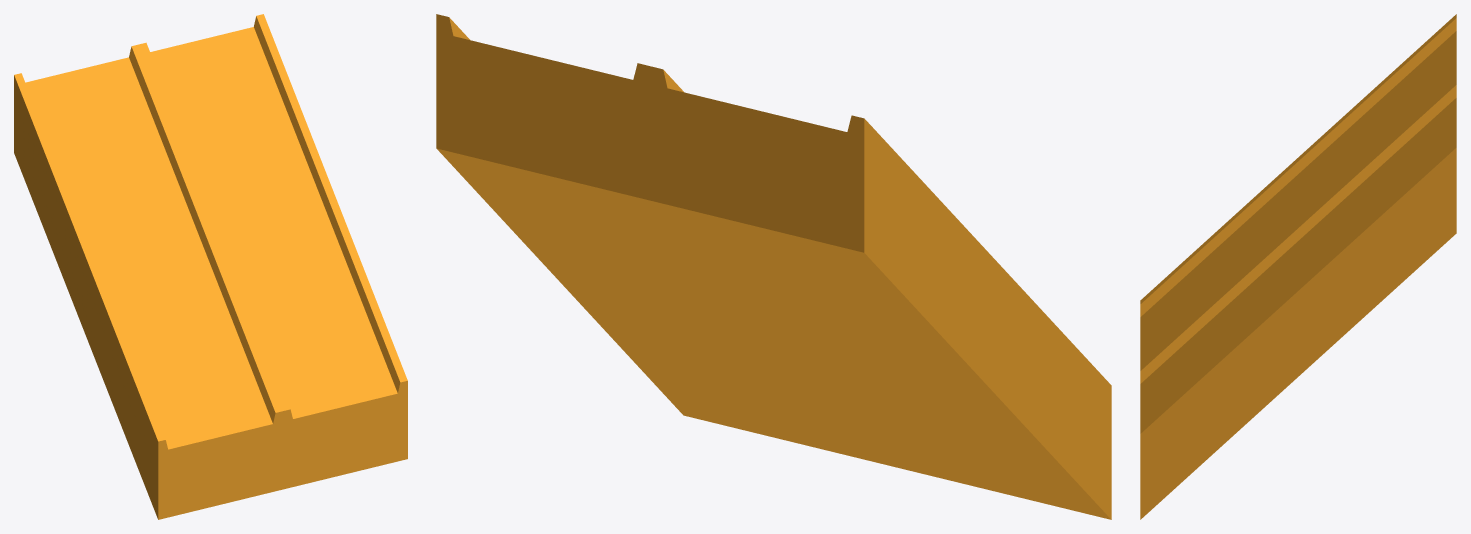
Rendered from SM_Roof_Metal_Regular_1x1m.fbx.
3 views of the same model, side by side, from view 1: azimuth 30°, elevation 25°; view 2: azimuth 150°, elevation 25°; view 3: azimuth 270°, elevation 25° (orthographic). The views are drawn at different scales.
Parts seen in each view (by area): view 1: roof-metal-regular-1x1m; view 2: roof-metal-regular-1x1m; view 3: roof-metal-regular-1x1m.
Part boxes in pixels (left/top/right/bottom): roof-metal-regular-1x1m: left=14, top=14, right=407, bottom=519; roof-metal-regular-1x1m: left=436, top=14, right=1111, bottom=519; roof-metal-regular-1x1m: left=1140, top=14, right=1456, bottom=519.
Size of the model in its own units: 1 by 1.3 by 1.
